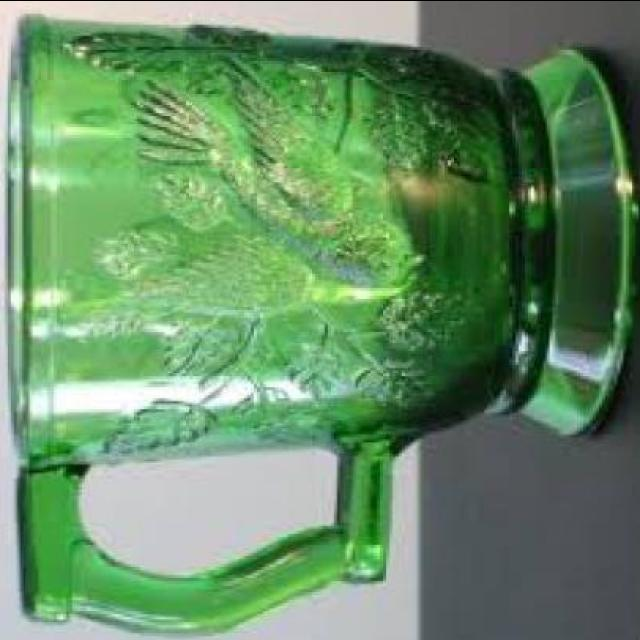kaca: (5, 11, 626, 634)
